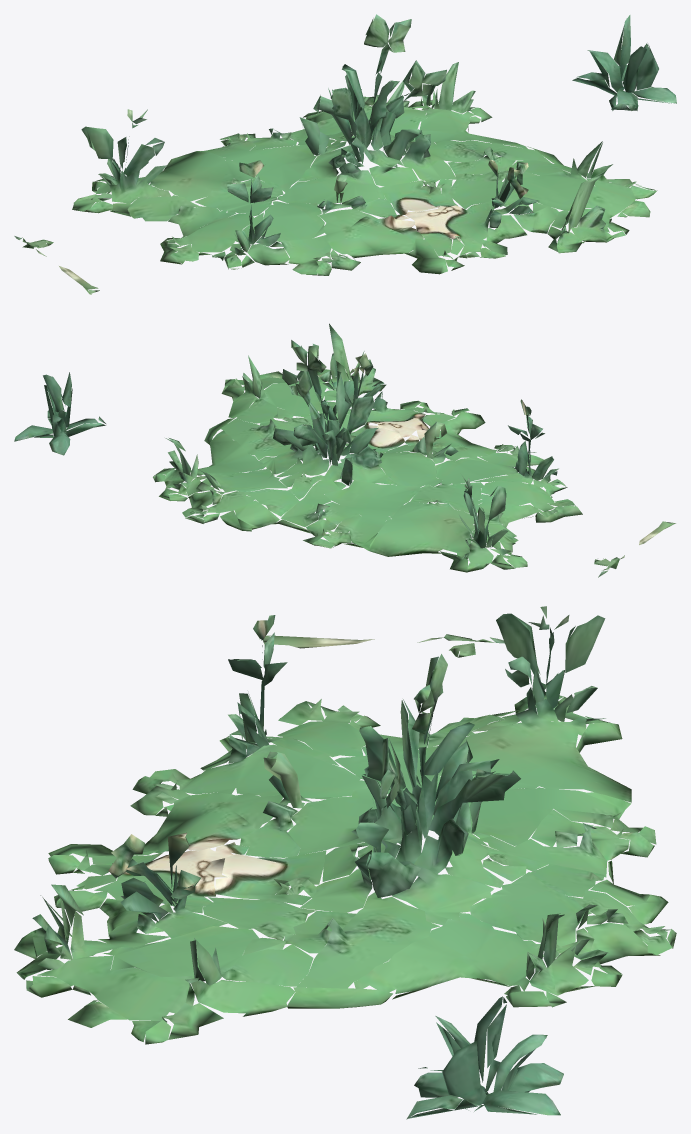
Rendered from green07.glb.
3 views of the same model, one above another, from view 1: azimuth 30°, elevation 25°; view 2: azimuth 150°, elevation 25°; view 3: azimuth 270°, elevation 25° (orthographic). The views are drawn at different scales.
Visible parts, largest first — view 1: tripo_node_d49afbf0-5017-4874-9bba-0594375b65d5; view 2: tripo_node_d49afbf0-5017-4874-9bba-0594375b65d5; view 3: tripo_node_d49afbf0-5017-4874-9bba-0594375b65d5.
Part boxes in pixels (x1,y1,x2,y2): tripo_node_d49afbf0-5017-4874-9bba-0594375b65d5: (14,14,676,294); tripo_node_d49afbf0-5017-4874-9bba-0594375b65d5: (14,323,675,577); tripo_node_d49afbf0-5017-4874-9bba-0594375b65d5: (14,606,676,1119).
Size of the model in its own units: 0.9971 by 0.24 by 0.5712.
Materials: 1 (1 with a texture image).
